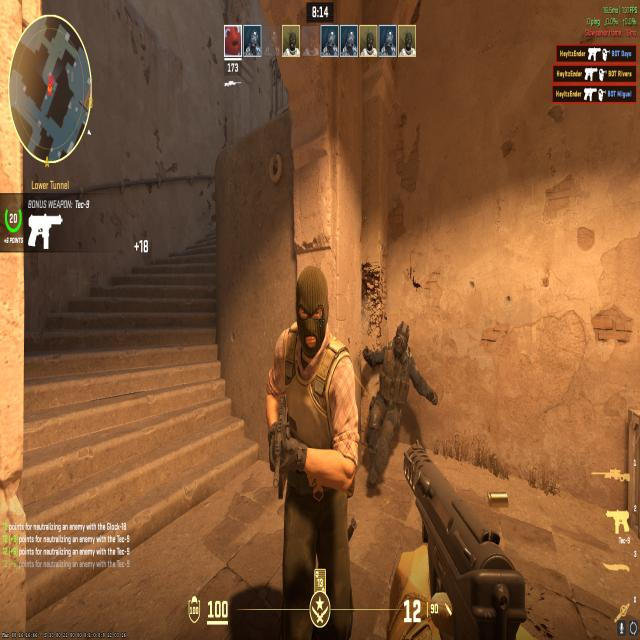ct: (362, 316, 430, 508)
t: (251, 257, 361, 640)
